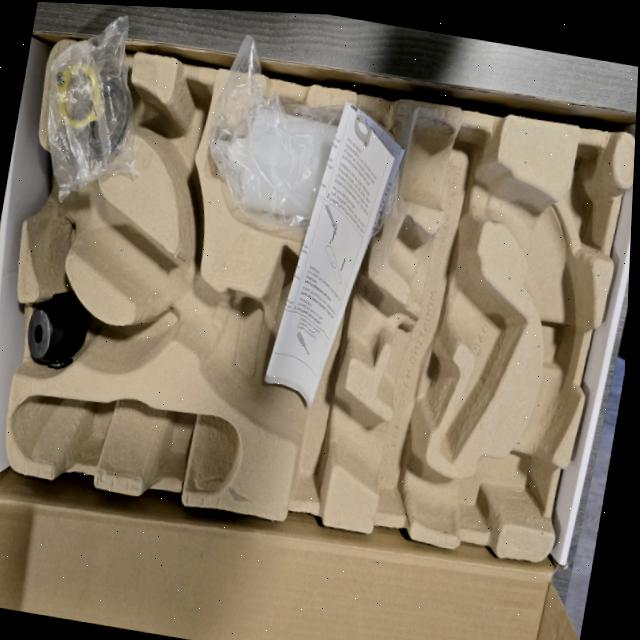1m: (27, 113, 591, 526)
2m: (389, 214, 526, 458)
3o: (208, 104, 398, 234)
4m: (10, 392, 239, 495)
5: (27, 288, 87, 367)
6: (50, 13, 139, 201)
7m: (142, 81, 213, 212)
8: (262, 96, 404, 414)
